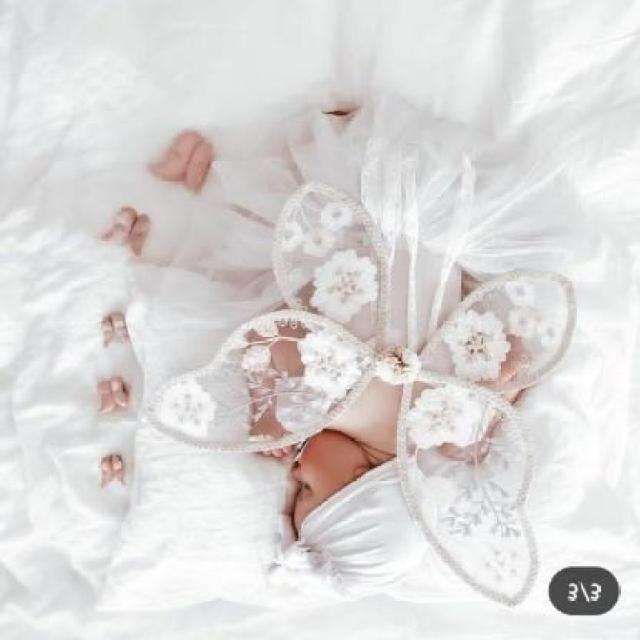baby: (244, 108, 526, 594)
